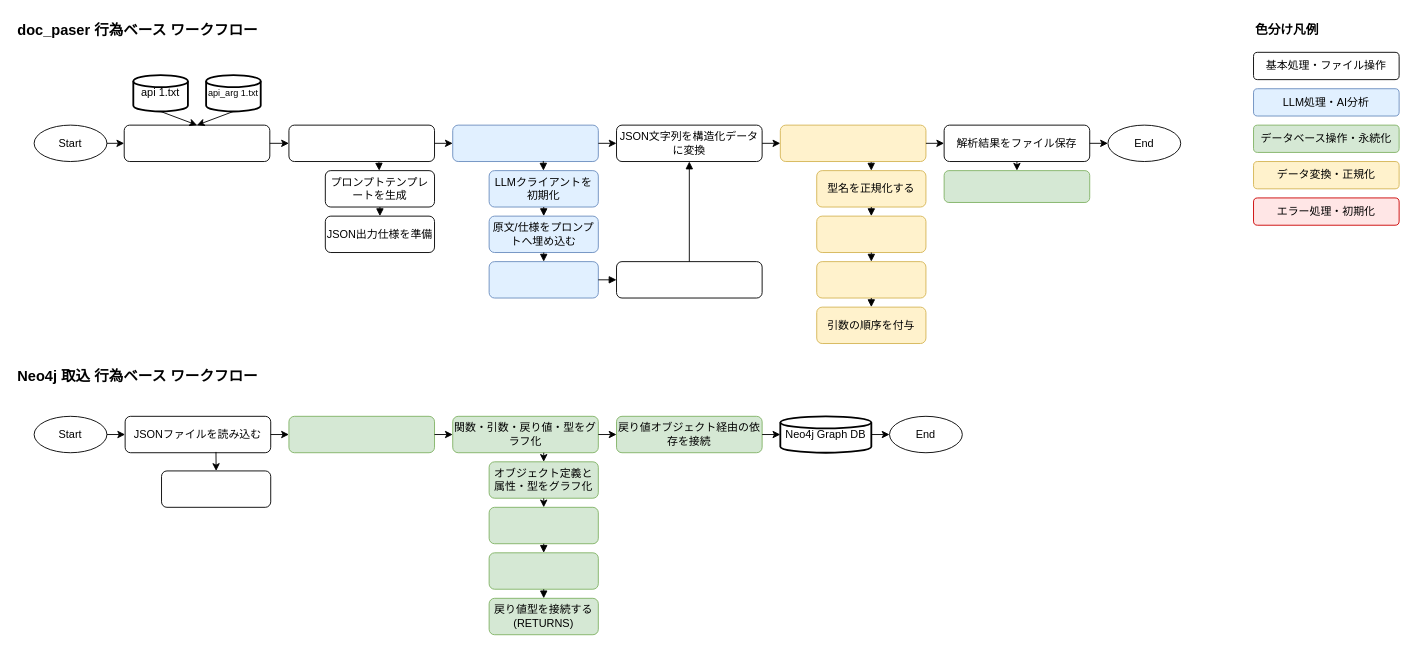
This 1415x651 diagram has some shape labels left out. The shapes that lost their labels are listed below. From the top down, each one's centre as x and y in pixels, then its label:
At [196,143]: "API原文を連結して読み込む".
At [361,143]: "プロンプトとJSON仕様を準備".
At [525,143]: "LLMに解析を依頼しJSON出力を得る".
At [852,143]: "型名を正規化し配列/必須/順序を付与".
At [1016,186]: "parsed_api_result.json".
At [871,234]: "配列メタデータを付与する".
At [543,279]: "LLMへ問い合わせを実行".
At [689,279]: "レスポンス整合性を確認(JSON)".
At [871,279]: "必須/任意を推定する".
At [361,434]: "型(Type)ノードを作成/更新".
At [216,488]: "型→エントリ→依存の順に取り込む".
At [543,525]: "引数を順序付きで接続する(HAS_PARAMETER)".
At [543,570]: "型ノードを解決して接続する(HAS_TYPE)".
